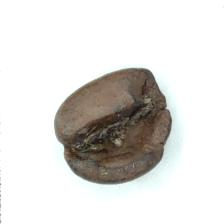NG: (76, 105, 142, 170)
